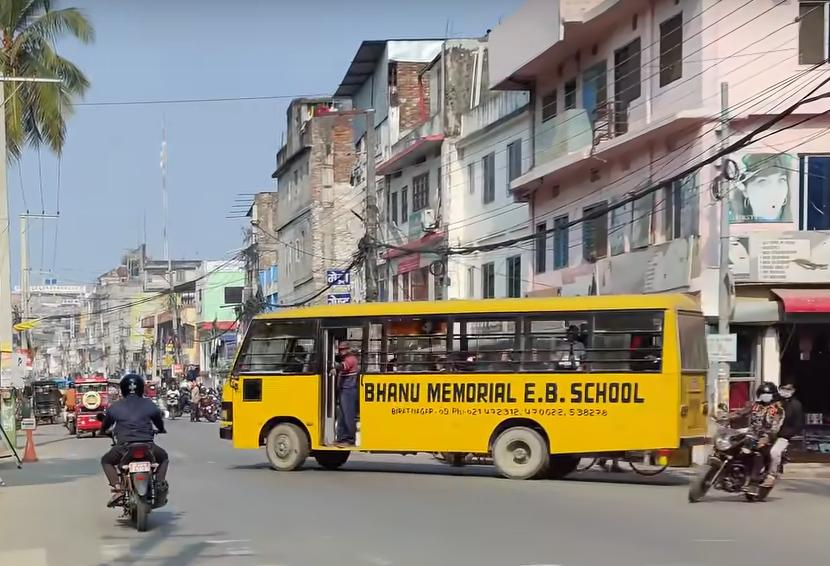bike: (92, 407, 178, 537), (686, 403, 786, 505)
e-rickshaw: (70, 376, 112, 438)
school_bus: (214, 292, 715, 485)
